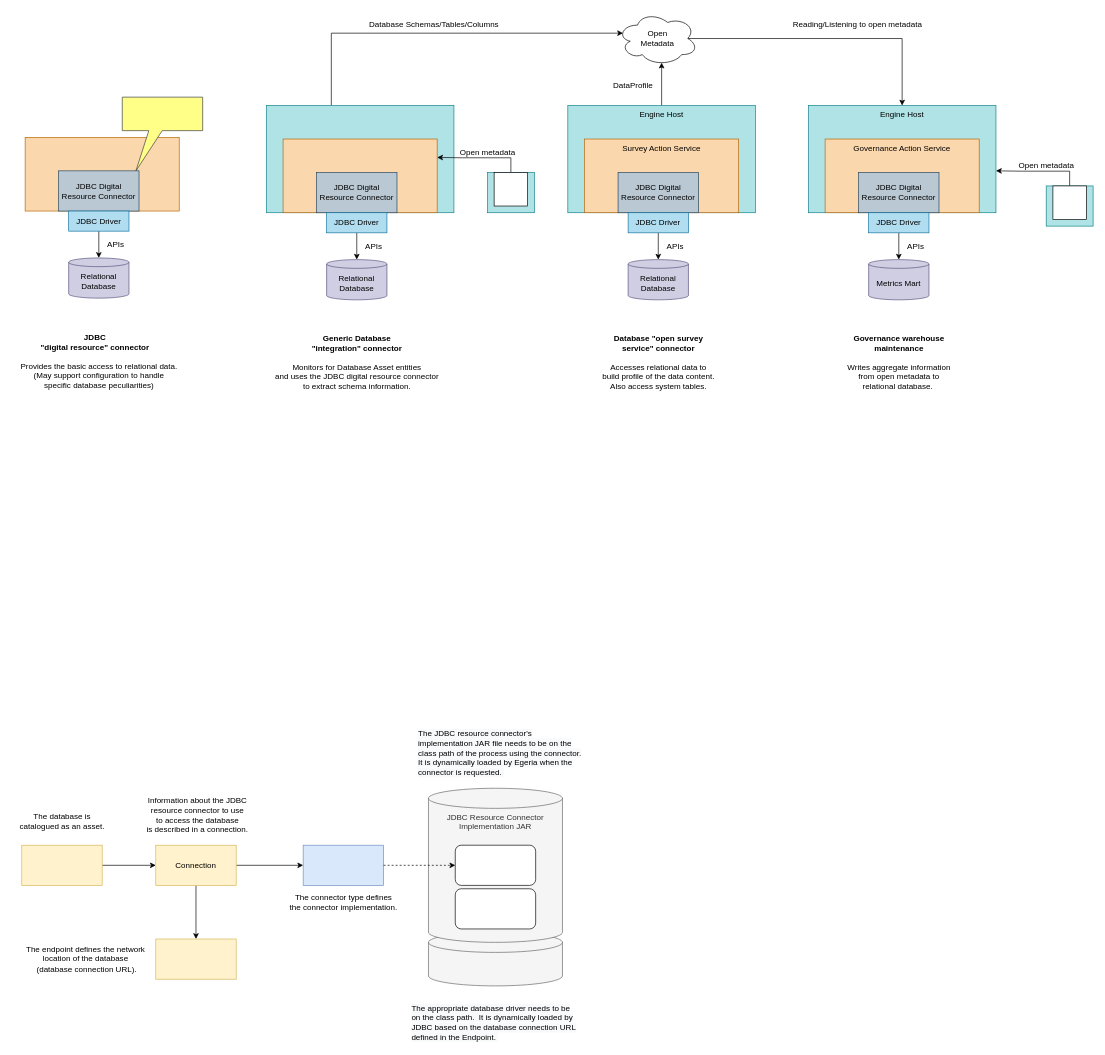
The diagram is 1105 pixels wide and 1055 high, and some of its shapes have lost their labels. The box of each missing label's shape, as (x1, y1, x2, y2) in pixels:
API matches the Java JDBC interface: (122, 96, 203, 171)
Connector: (455, 888, 536, 929)
Connector Provider: (455, 845, 536, 885)
Connector Type: (303, 845, 384, 885)
Consumer: (24, 137, 179, 211)
Database: (21, 845, 102, 885)
Database Driver JAR: (428, 932, 562, 986)
Endpoint: (155, 938, 236, 979)
Integration Connector: (282, 138, 437, 213)
Integration Daemon: (266, 105, 454, 213)
